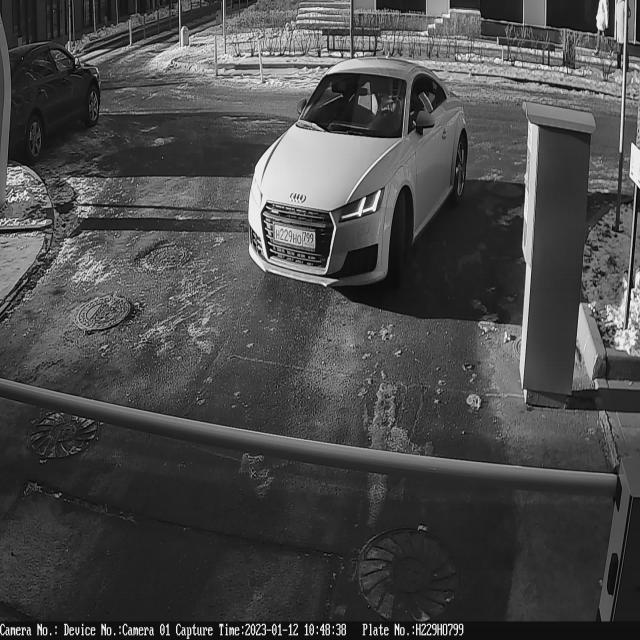car-plate-numbers: (272, 220, 319, 254)
